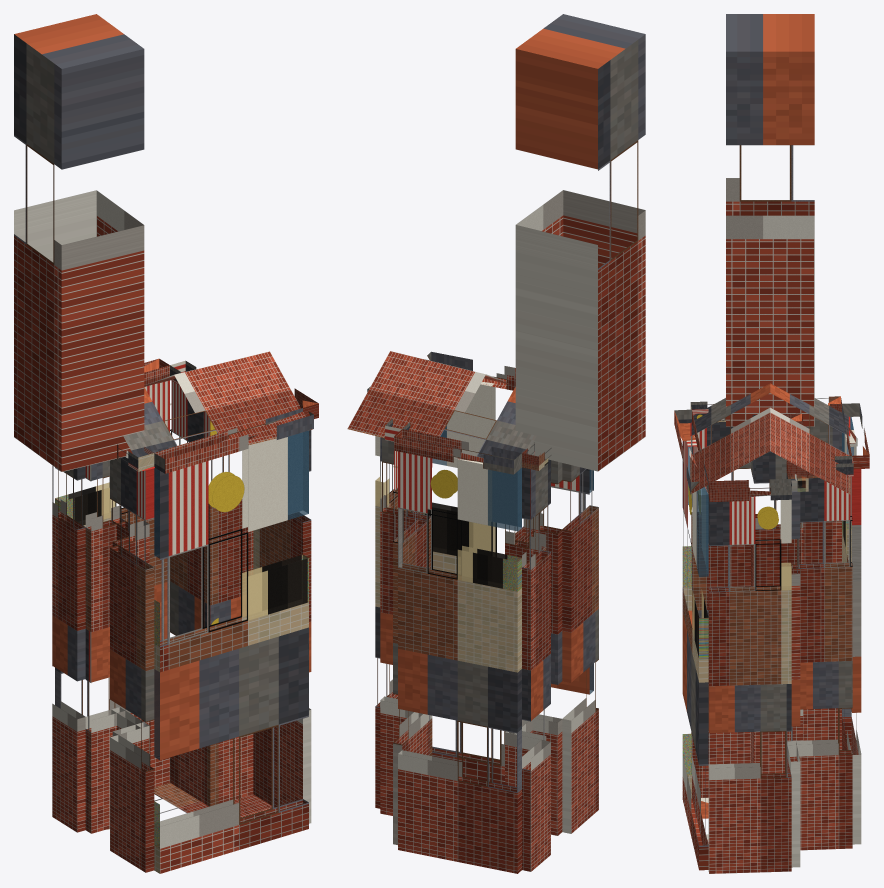
3 views of the same model, side by side, from view 1: azimuth 30°, elevation 25°; view 2: azimuth 150°, elevation 25°; view 3: azimuth 270°, elevation 25° (orthographic). The views are drawn at different scales.
Parts seen in each view (by area): view 1: 403665910__chimney_0_xb, 403665910__wall_9_xb, 403665910__wall_0_xb, 403665910__wall_4_xb, 403665910_roof_-1_xb, 403665910__wall_3_xb, 403665910__wall_8_xb, 403665910__wall_6_xb, 403665910__wall_7_xb, 403665910__wall_9_xf, 403665910__wall_5_xb, 403665910__cornice_9 (+4 smaller); view 2: 403665910__chimney_0_xb, 403665910__wall_5_xb, 403665910__wall_0_xb, 403665910__wall_4_xb, 403665910_roof_1_xb, 403665910__wall_9_xb, 403665910__wall_7_xb, 403665910__wall_1_xb, 403665910__wall_5_xf, 403665910__wall_6_xb, 403665910__cornice_5, 403665910__wall_8_xb (+3 smaller); view 3: 403665910__chimney_0_xb, 403665910__wall_8_xb, 403665910__wall_6_xb, 403665910__wall_9_xb, 403665910__wall_0_xb, 403665910__wall_5_xb, 403665910_roof_-1_xb, 403665910_roof_1_xb, 403665910__wall_2_xb, 403665910__wall_7_xb, 403665910__wall_4_xb, 403665910__wall_9_xf (+4 smaller).
Boxes of the visible parts, x1,y1,x2,y2 form: 403665910__chimney_0_xb: (14, 14, 144, 471); 403665910__wall_9_xb: (154, 430, 308, 873); 403665910__wall_0_xb: (110, 456, 154, 872); 403665910__wall_4_xb: (52, 465, 85, 832); 403665910_roof_-1_xb: (123, 351, 312, 470); 403665910__wall_3_xb: (85, 460, 125, 833); 403665910__wall_8_xb: (253, 430, 311, 823); 403665910__wall_6_xb: (170, 381, 218, 805); 403665910__wall_7_xb: (204, 411, 253, 806); 403665910__wall_9_xf: (154, 431, 308, 847); 403665910__wall_5_xb: (55, 380, 169, 786); 403665910__cornice_9: (154, 408, 313, 473); 403665910__chimney_0_xb: (515, 14, 645, 471); 403665910__wall_5_xb: (398, 451, 521, 873); 403665910__wall_0_xb: (562, 463, 598, 833); 403665910__wall_4_xb: (522, 458, 550, 871); 403665910_roof_1_xb: (347, 351, 536, 457); 403665910__wall_9_xb: (423, 381, 593, 784); 403665910__wall_7_xb: (380, 437, 432, 815); 403665910__wall_1_xb: (523, 460, 562, 835); 403665910__wall_5_xf: (458, 468, 521, 590); 403665910__wall_6_xb: (393, 451, 432, 844); 403665910__cornice_5: (394, 429, 521, 474); 403665910__wall_8_xb: (375, 436, 423, 808); 403665910__chimney_0_xb: (726, 14, 814, 426); 403665910__wall_8_xb: (708, 496, 791, 873); 403665910__wall_6_xb: (787, 478, 852, 850); 403665910__wall_9_xb: (682, 435, 708, 870); 403665910__wall_0_xb: (691, 418, 750, 797); 403665910__wall_5_xb: (842, 417, 861, 844); 403665910_roof_-1_xb: (690, 383, 770, 494); 403665910_roof_1_xb: (770, 383, 850, 494); 403665910__wall_2_xb: (754, 451, 803, 773); 403665910__wall_7_xb: (786, 473, 800, 867); 403665910__wall_4_xb: (803, 418, 841, 750); 403665910__wall_9_xf: (683, 447, 708, 774).
Size of the model in its own units: 0.4515 by 1.4 by 0.3304.
1 material, 1 textured.
